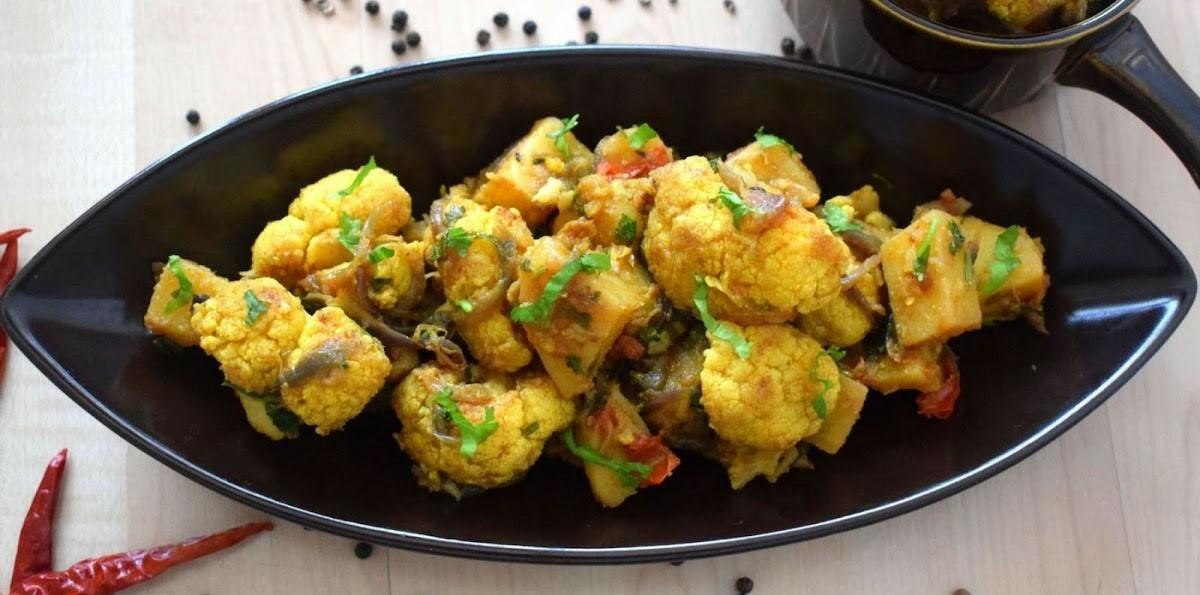AlooGobi: (146, 115, 1052, 507)
